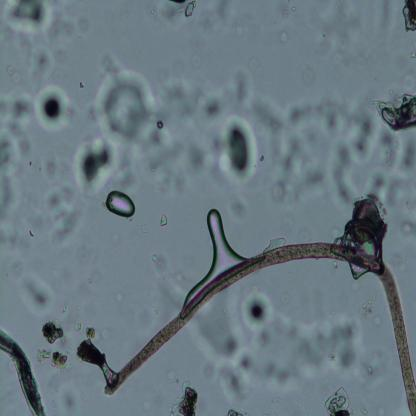Air bubble: (182, 205, 242, 294), (105, 188, 136, 218)
Background material: (256, 102, 416, 218), (213, 314, 359, 388), (124, 74, 214, 186), (9, 13, 82, 88), (92, 65, 156, 148), (0, 94, 29, 218), (314, 0, 362, 64), (339, 195, 388, 257), (220, 112, 256, 182), (44, 188, 82, 251), (76, 137, 116, 196), (4, 238, 46, 286), (75, 338, 118, 382), (34, 82, 72, 130), (375, 93, 416, 131), (4, 0, 53, 31), (20, 272, 55, 314), (204, 4, 244, 40), (221, 65, 252, 107), (242, 290, 272, 332), (170, 378, 201, 414), (156, 0, 186, 29), (356, 350, 382, 382), (145, 249, 171, 280), (325, 387, 354, 414), (37, 348, 68, 372), (40, 318, 66, 345), (396, 212, 416, 245), (359, 300, 379, 332), (399, 2, 416, 34), (40, 160, 61, 183), (56, 384, 75, 407), (296, 65, 314, 89), (275, 27, 292, 49), (204, 99, 221, 119), (278, 0, 294, 18), (84, 319, 96, 342), (185, 0, 197, 18), (141, 219, 150, 237), (160, 214, 168, 234)
Cellulose filter fibre: (0, 330, 48, 416)
Microfibre: (105, 242, 416, 414)
